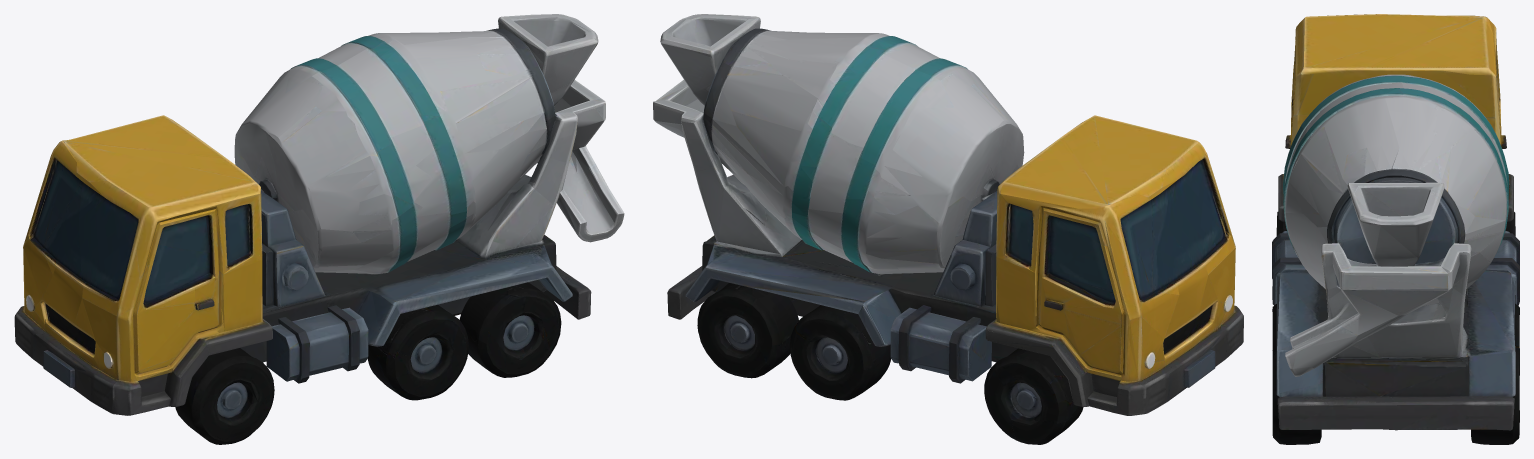
Rendered from mixer.glb.
The picture shows the model from 3 angles, left to right: view 1: azimuth 30°, elevation 25°; view 2: azimuth 150°, elevation 25°; view 3: azimuth 270°, elevation 25°; orthographic projection.
Bounding box in the file's own units: 1.9 × 1.06 × 0.7654.
1 material, 1 textured.
